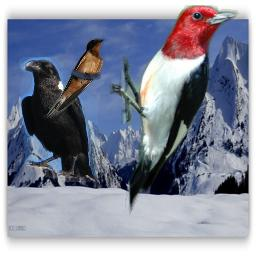Crow: (19, 57, 98, 182)
Swallow: (44, 37, 106, 118)
Woodpecker: (107, 5, 240, 216)
